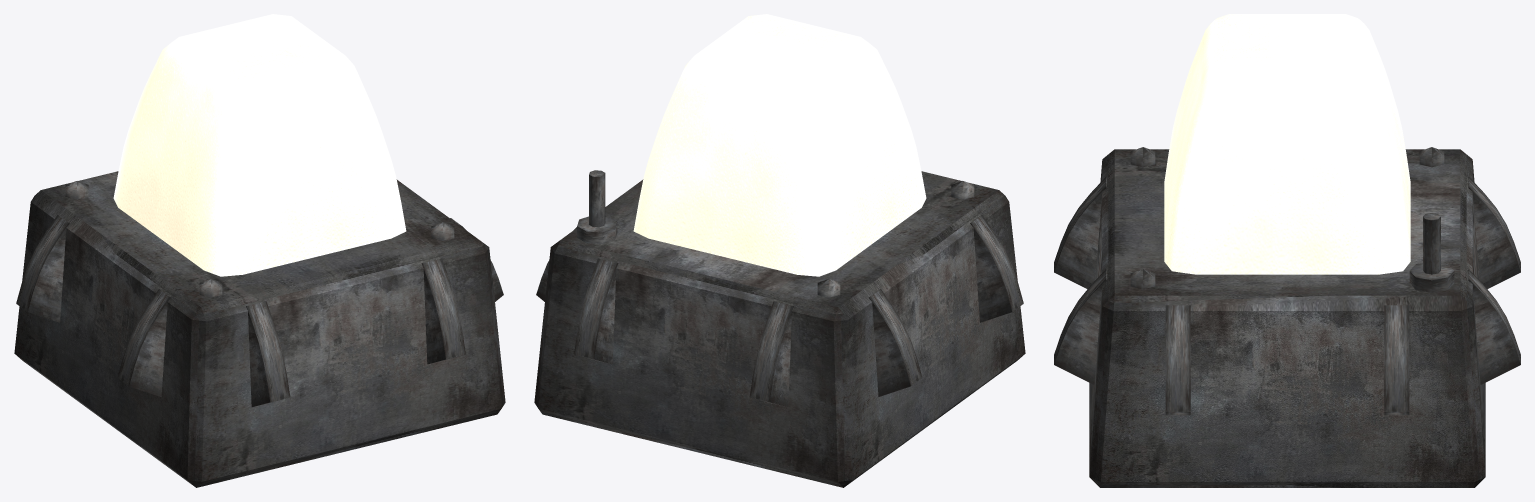
The model's file is static.glb.
3 renders of one model, left to right at view 1: azimuth 30°, elevation 25°; view 2: azimuth 150°, elevation 25°; view 3: azimuth 270°, elevation 25°, orthographic. The views are drawn at different scales.
Visible parts, largest first — view 1: Cube, Cube_1_5, Cube_1_2, Cube_1; view 2: Cube, Cube_1_5, Cube_1_2, Cube_1_3, Cylinder_1, Cylinder; view 3: Cube, Cube_1_5, Cube_1_3, Cube_1, Cube_1_4, Cylinder_1, Cylinder.
Part boxes in pixels (<box>): Cube: <box>14,171,505,487</box>; Cube_1_5: <box>113,14,406,276</box>; Cube_1_2: <box>16,215,170,396</box>; Cube_1: <box>246,258,465,407</box>; Cube: <box>534,171,1025,487</box>; Cube_1_5: <box>633,14,926,276</box>; Cube_1_2: <box>869,215,1023,396</box>; Cube_1_3: <box>574,258,793,407</box>; Cylinder_1: <box>589,170,605,227</box>; Cylinder: <box>577,216,617,243</box>; Cube: <box>1089,149,1485,487</box>; Cube_1_5: <box>1164,14,1410,274</box>; Cube_1_3: <box>1468,177,1520,384</box>; Cube_1: <box>1054,177,1106,384</box>; Cube_1_4: <box>1165,305,1409,415</box>; Cylinder_1: <box>1423,213,1440,274</box>; Cylinder: <box>1409,263,1454,292</box>.
Bounding box in the file's own units: 2.04 × 1.77 × 2.04.
Materials: 2 (2 with a texture image).
